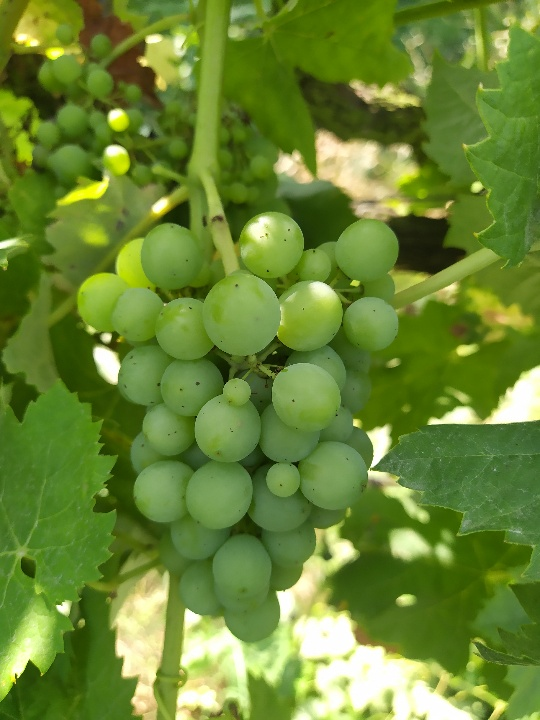grape: (74, 210, 401, 646)
